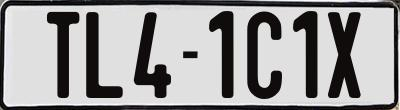1: (209, 11, 237, 98), (293, 9, 319, 100)
4: (134, 10, 174, 98)
C: (244, 10, 281, 103)
L: (86, 10, 126, 98)
T: (45, 12, 78, 100)
X: (326, 11, 361, 99)
